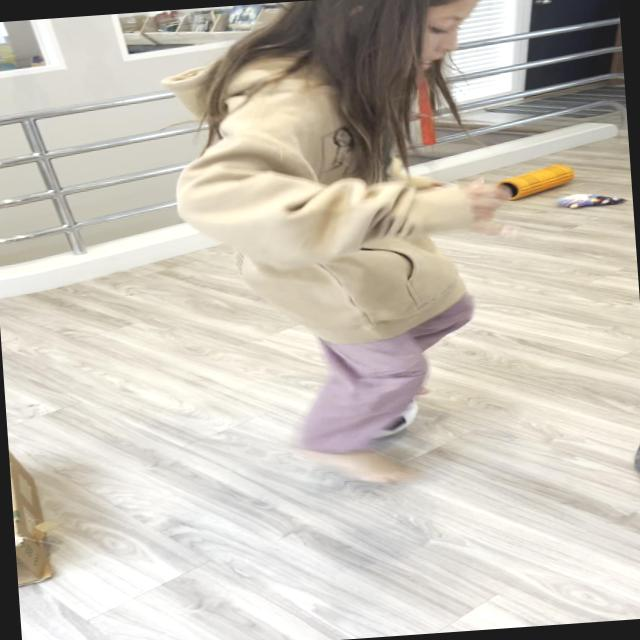Soccer Ball: (316, 381, 417, 442)
